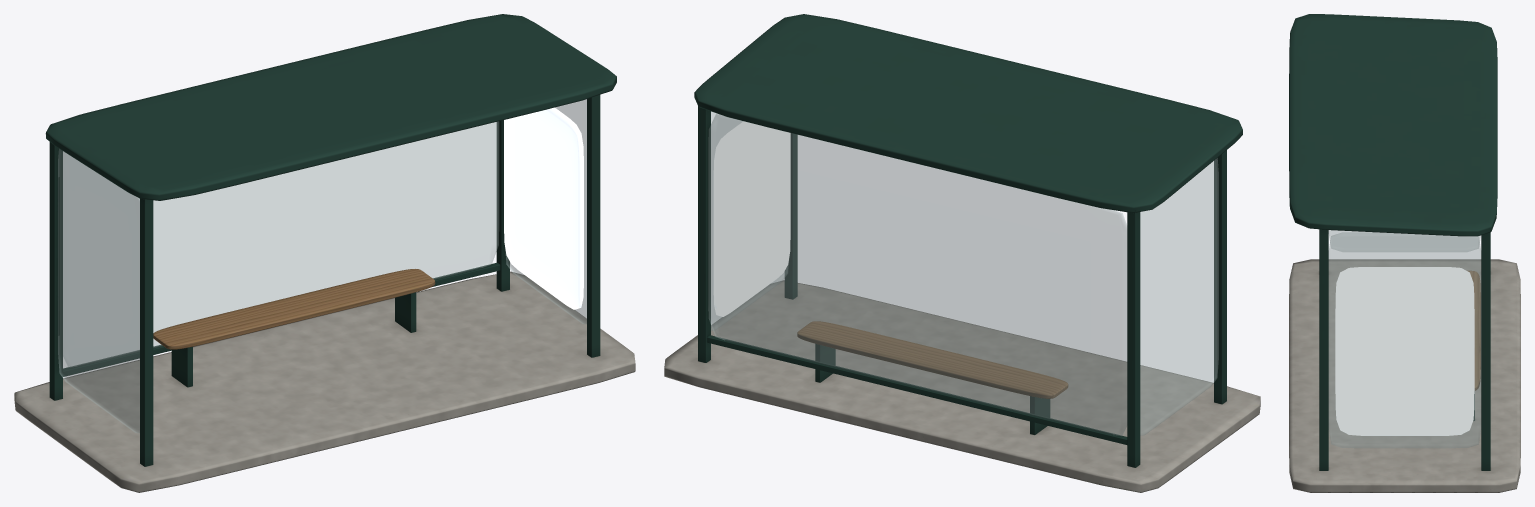
The model's file is green.glb.
The picture shows the model from 3 angles, left to right: view 1: azimuth 30°, elevation 25°; view 2: azimuth 150°, elevation 25°; view 3: azimuth 270°, elevation 25°; orthographic projection. The views are drawn at different scales.
Parts seen in each view (by area): view 1: paint_primary_frame, concrete, glass_panel, ad_light, wood_x; view 2: glass_panel, paint_primary_frame, concrete, ad_light, wood_x; view 3: paint_primary_frame, glass_panel, concrete, ad_light, wood_x.
Boxes of the visible parts, x1,y1,x2,y2 form: paint_primary_frame: (45,14,616,466); concrete: (14,271,635,492); glass_panel: (58,99,586,433); ad_light: (504,107,583,309); wood_x: (153,269,435,349); glass_panel: (708,111,1218,435); paint_primary_frame: (694,14,1242,467); concrete: (664,280,1260,492); ad_light: (713,121,790,316); wood_x: (797,321,1068,398); paint_primary_frame: (1289,14,1497,470); glass_panel: (1329,230,1480,448); concrete: (1289,259,1520,492); ad_light: (1335,267,1474,435); wood_x: (1467,270,1480,390).
Size of the model in its own units: 4.6 by 2.52 by 2.
5 materials, 3 textured.
